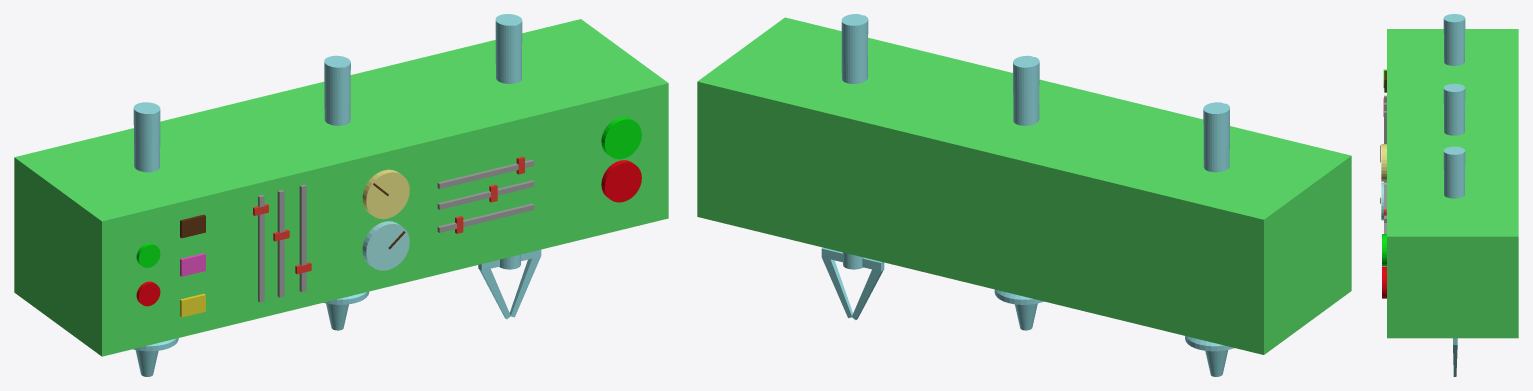
The model's file is jedinica3.fbx.
3 views of the same model, side by side, from view 1: azimuth 30°, elevation 25°; view 2: azimuth 150°, elevation 25°; view 3: azimuth 270°, elevation 25° (orthographic). The views are drawn at different scales.
Parts seen in each view (by area): view 1: Cube.009, Cube.039; view 2: Cube.009, Cube.039; view 3: Cube.009, Cube.039.
Boxes of the visible parts, left/top/right/bottom form: Cube.009: left=14, top=14, right=668, bottom=376; Cube.039: left=509, top=256, right=540, bottom=317; Cube.009: left=697, top=14, right=1351, bottom=376; Cube.039: left=821, top=255, right=852, bottom=318; Cube.009: left=1380, top=14, right=1518, bottom=344; Cube.039: left=1453, top=345, right=1457, bottom=376.
Size of the model in its own units: 910 by 458 by 256.
